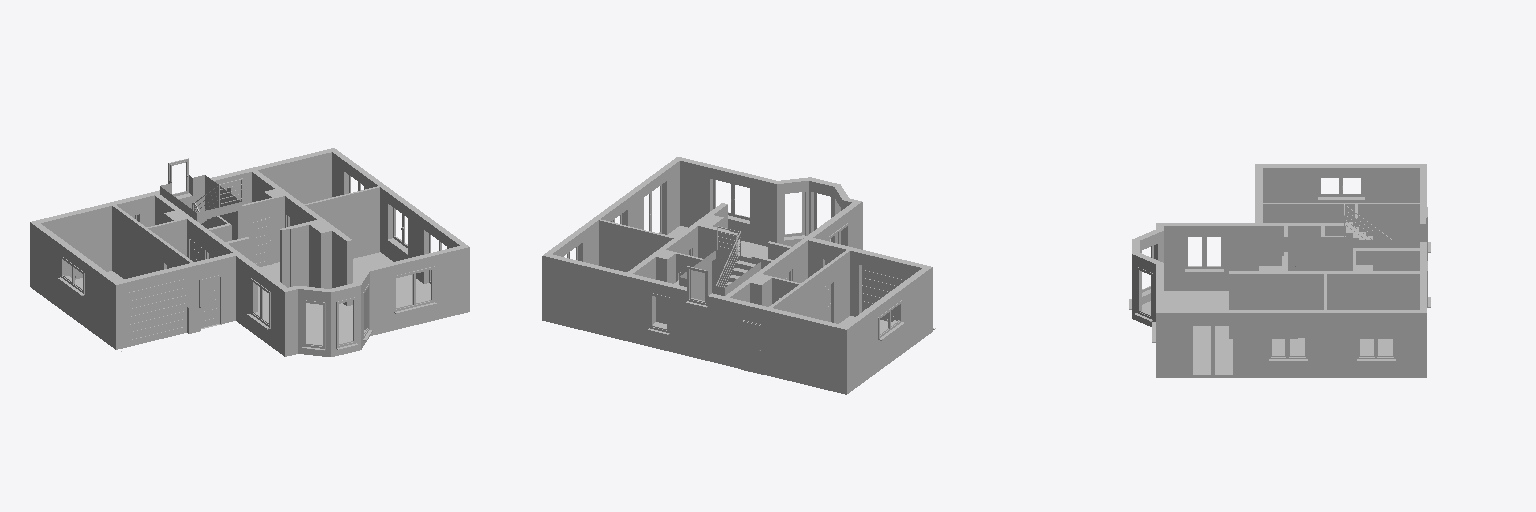
The model's file is denhouse1.obj.
3 renders of one model, left to right at view 1: azimuth 30°, elevation 25°; view 2: azimuth 150°, elevation 25°; view 3: azimuth 270°, elevation 25°, orthographic.
Visible parts, largest first — view 1: barrels_001.1094_barrels_001.1103; view 2: barrels_001.1094_barrels_001.1103; view 3: barrels_001.1094_barrels_001.1103.
Part boxes in pixels (x1,y1,x2,y2): barrels_001.1094_barrels_001.1103: (30,148,469,356); barrels_001.1094_barrels_001.1103: (542,157,935,394); barrels_001.1094_barrels_001.1103: (1129,164,1430,377).
Bounding box in the file's own units: 5.44 × 1.65 × 4.58.